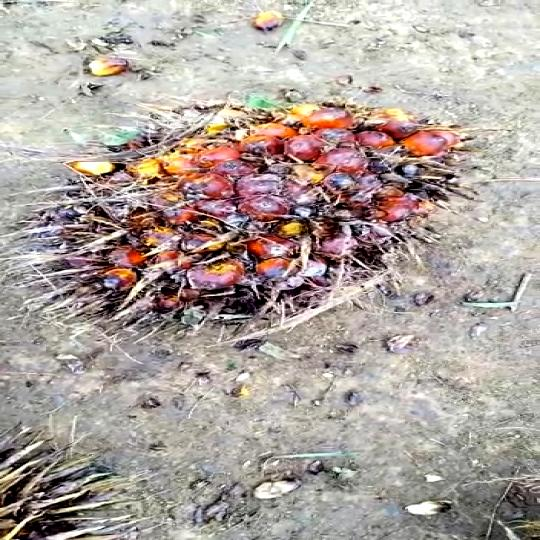masak: (50, 100, 473, 332)
